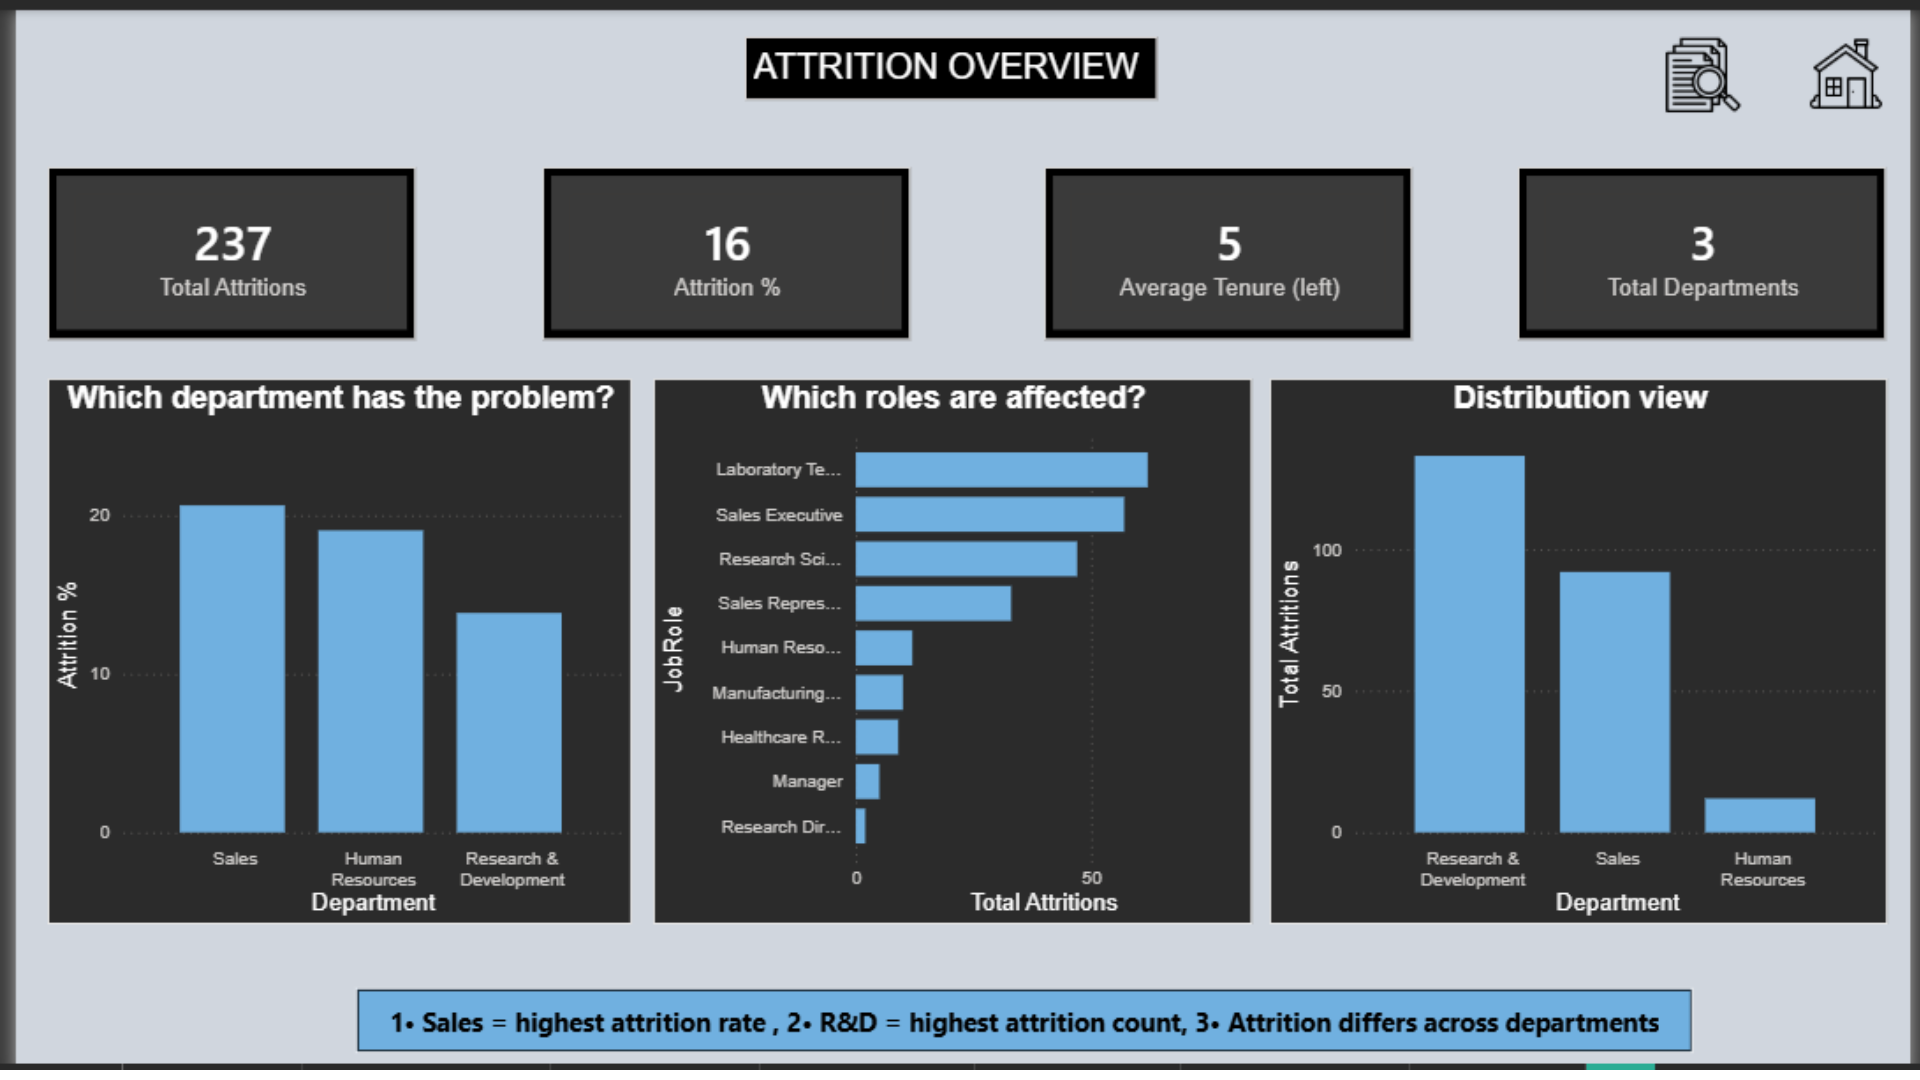

The page's visual inventory and layout, read from the dashboard file:
{"tool":"powerbi","page":{"name":"Attrition Overview","canvas":[1280,720],"ordinal":1},"visuals":[{"type":"cardVisual","fields":{"Data":["Overview Measures.Total Attritions"]},"box":[22,106,249.1,117],"z":0},{"type":"cardVisual","fields":{"Data":["Overview Measures.Attribution %"]},"box":[356.5,106,249.1,117],"z":1000},{"type":"cardVisual","fields":{"Data":["Overview Measures.Avg Tenure (left)"]},"box":[695.1,106,249.1,117],"z":2000},{"type":"textbox","box":[492.7,17.9,279.4,42.7],"z":3000},{"type":"clusteredColumnChart","title":"Which department has the problem?","fields":{"Category":["Employees_Database.Department"],"Y":["Overview Measures.Attribution %"]},"box":[22,249.1,395,368.9],"z":4000},{"type":"cardVisual","fields":{"Data":["Overview Measures.Total Departments"]},"box":[1015.7,106,249.1,117],"z":5000},{"type":"clusteredBarChart","title":"Which roles are affected?","fields":{"Category":["Employees_Database.JobRole"],"Y":["Home Page Measures.Total Attritions"]},"box":[430.8,249.1,404.6,368.9],"z":6000},{"type":"columnChart","title":"Distribution view","fields":{"Category":["Employees_Database.Department"],"Y":["Home Page Measures.Total Attritions"]},"box":[847.8,249.1,418.4,368.9],"z":7000},{"type":"shape","box":[229.8,660.6,904.3,44],"z":8000},{"type":"image","box":[1208.4,17.9,57.8,52.3],"z":9000},{"type":"image","box":[1112.1,17.9,57.8,52.3],"z":10000}]}

Visuals, with their boxes in screenshot pixels (x1, y1, x2, y2), scaled from the page's 1280x720 canvas onto the 1920x1080 screenshot:
cardVisual - Overview Measures.Total Attritions: [33, 159, 407, 334]
cardVisual - Overview Measures.Attribution %: [535, 159, 908, 334]
cardVisual - Overview Measures.Avg Tenure (left): [1043, 159, 1416, 334]
textbox: [739, 27, 1158, 91]
"Which department has the problem?" clusteredColumnChart: [33, 374, 626, 927]
cardVisual - Overview Measures.Total Departments: [1524, 159, 1897, 334]
"Which roles are affected?" clusteredBarChart: [646, 374, 1253, 927]
"Distribution view" columnChart: [1272, 374, 1899, 927]
shape: [345, 991, 1701, 1057]
image: [1813, 27, 1899, 105]
image: [1668, 27, 1755, 105]
